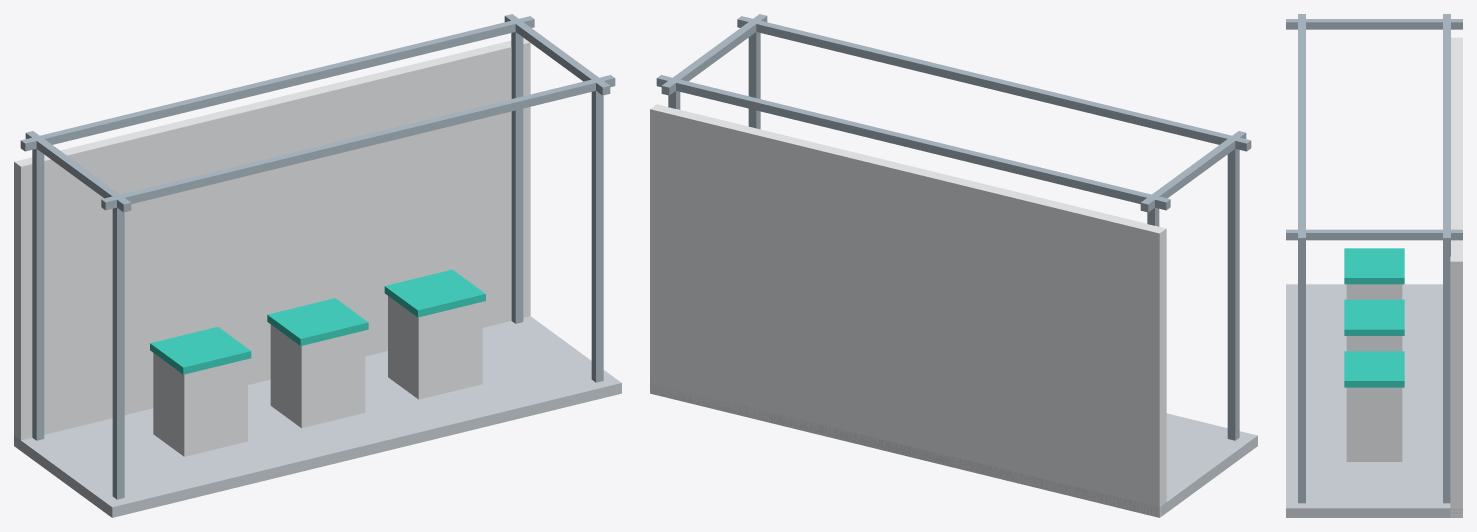
3 views of the same model, side by side, from view 1: azimuth 30°, elevation 25°; view 2: azimuth 150°, elevation 25°; view 3: azimuth 270°, elevation 25° (orthographic). The views are drawn at different scales.
Visible parts, largest first — view 1: Exhibition Booth Concept; view 2: Exhibition Booth Concept; view 3: Exhibition Booth Concept.
Part boxes in pixels (left/top/right/bottom): Exhibition Booth Concept: left=14, top=14, right=621, bottom=517; Exhibition Booth Concept: left=650, top=14, right=1257, bottom=517; Exhibition Booth Concept: left=1286, top=14, right=1462, bottom=517.
Bounding box in the file's own units: 6 × 3.49 × 2.
